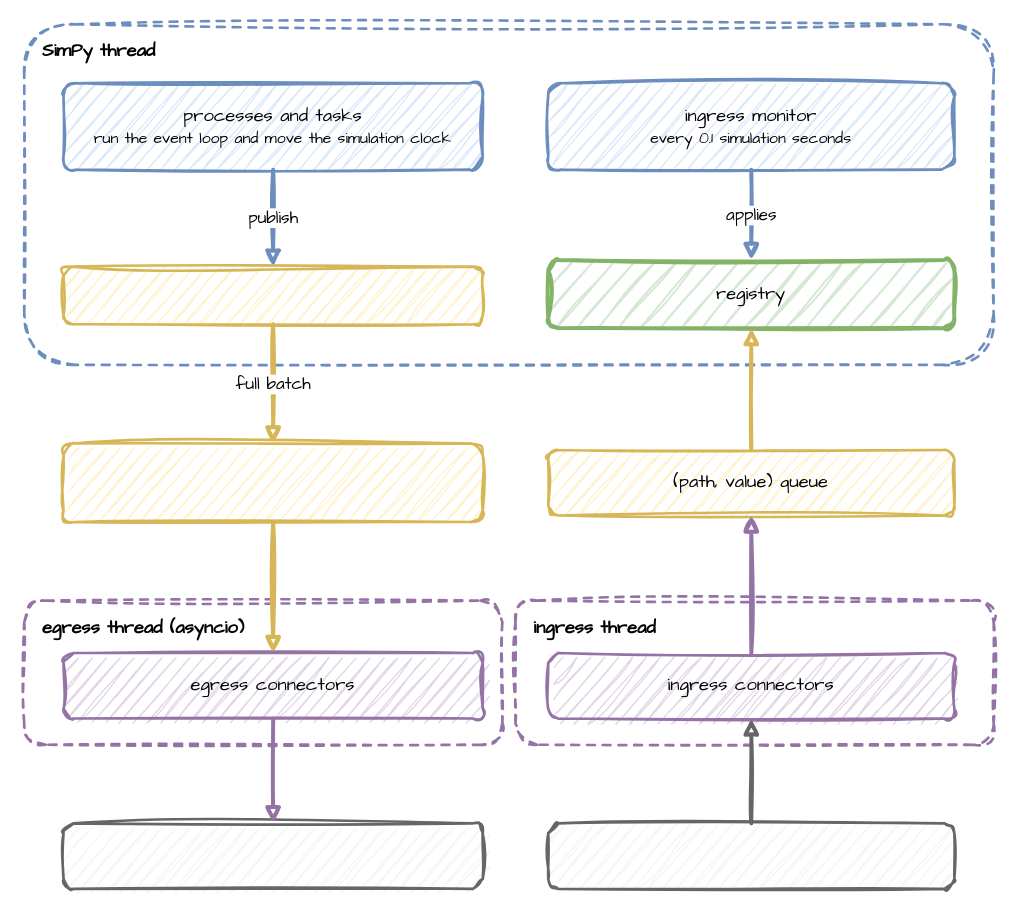
This 1017x912 diagram has some shape labels left out. The centre of each missing label's shape, as x and y in pixels:
"a buffer per egress" belongs at point (272, 295).
"a queue per egress at most max_queued_batches" belongs at point (272, 482).
"Kafka, Redis, PostgreSQL" belongs at point (750, 855).
"Kafka, Redis, PostgreSQL, files, Iceberg" belongs at point (272, 855).
